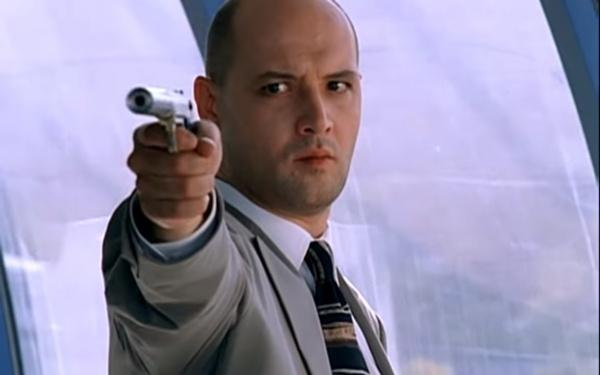Gun: (126, 84, 197, 154)
